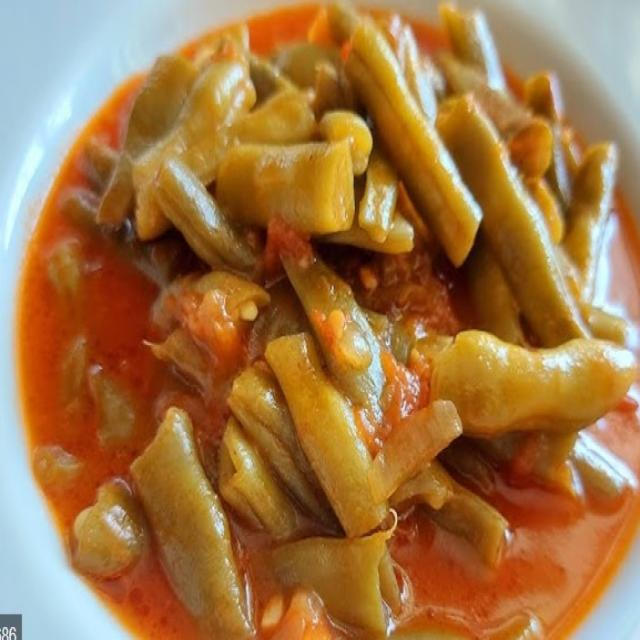ana_yemek: (18, 2, 636, 637)
